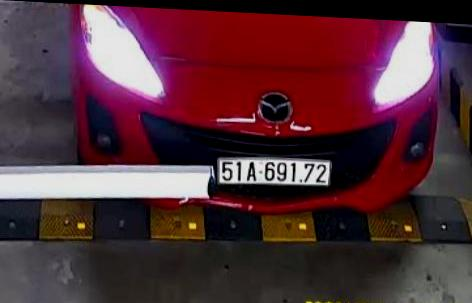License_Plate: (216, 151, 336, 194)
